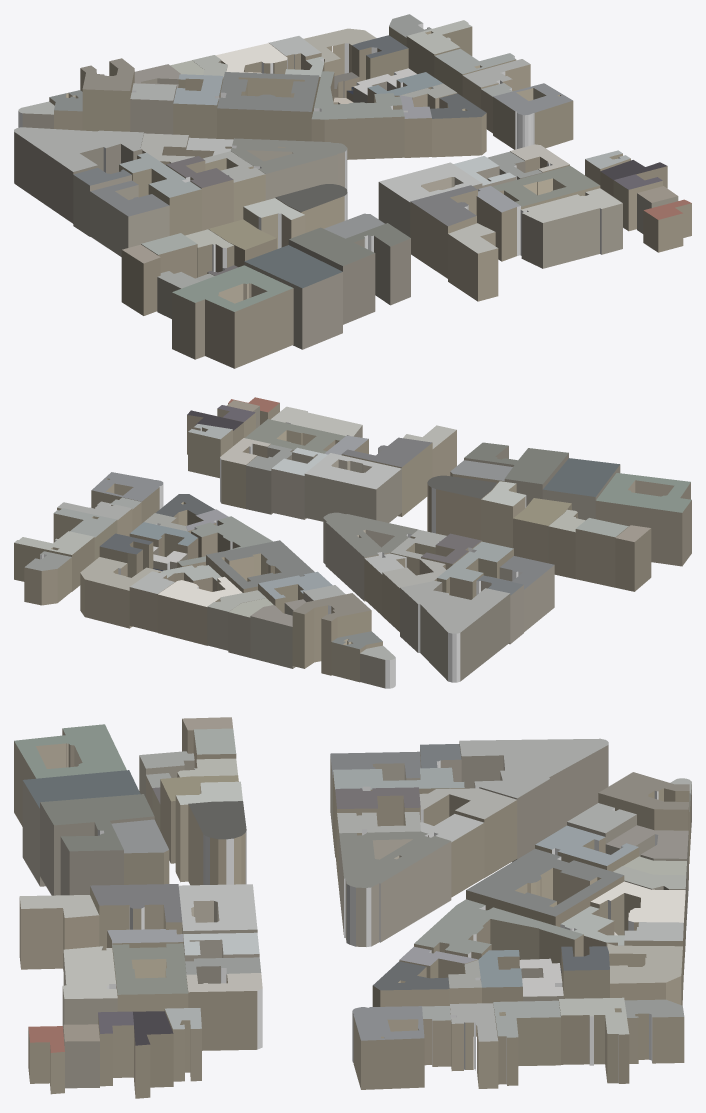
3 renders of one model, top to bottom at view 1: azimuth 30°, elevation 25°; view 2: azimuth 150°, elevation 25°; view 3: azimuth 270°, elevation 25°, orthographic. The views are drawn at different scales.
Parts seen in each view (by area): view 1: tuile; view 2: tuile; view 3: tuile.
Part boxes in pixels (bbox=[...]): tuile: bbox=[14, 14, 691, 368]; tuile: bbox=[14, 397, 691, 688]; tuile: bbox=[14, 717, 691, 1098].
Size of the model in its own units: 272 by 40.08 by 249.
